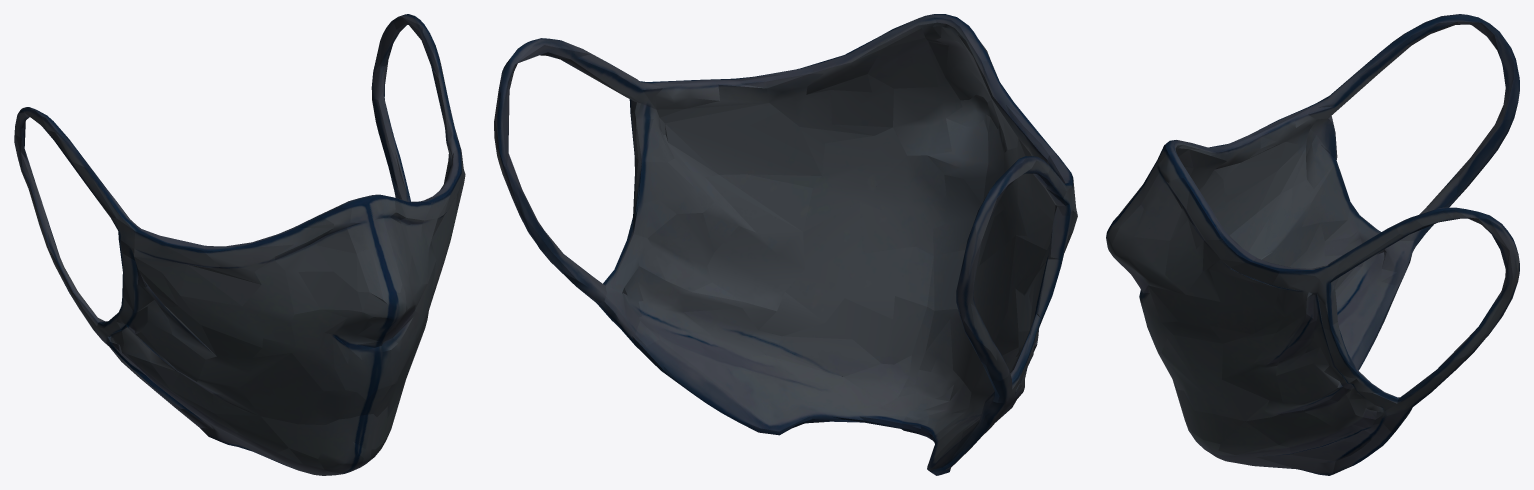
Rendered from nerith_f-masque-0.glb.
3 views of the same model, side by side, from view 1: azimuth 30°, elevation 25°; view 2: azimuth 150°, elevation 25°; view 3: azimuth 270°, elevation 25° (orthographic). The views are drawn at different scales.
Visible parts, largest first — view 1: geometry_0; view 2: geometry_0; view 3: geometry_0.
Boxes of the visible parts, bbox=[...] form: geometry_0: bbox=[14, 14, 465, 475]; geometry_0: bbox=[494, 14, 1077, 475]; geometry_0: bbox=[1106, 14, 1519, 475].
Bounding box in the file's own units: 1.9 × 1.54 × 1.68.
1 material, 1 textured.
